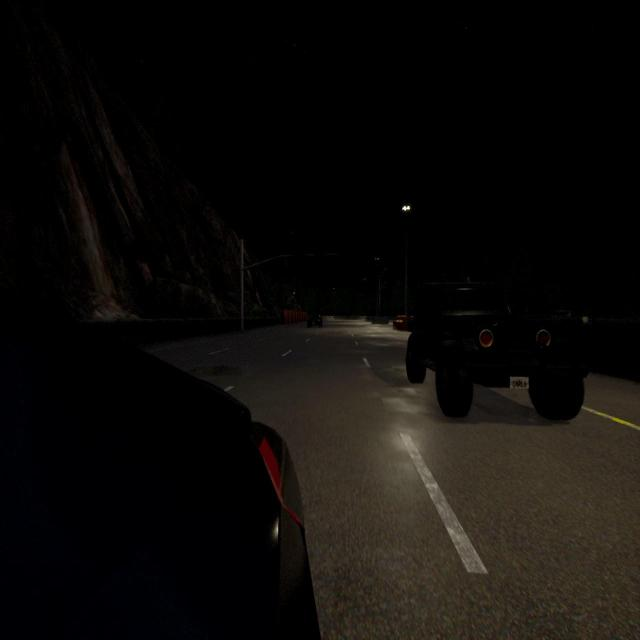Vehicle: (0, 316, 323, 640), (405, 259, 588, 422), (306, 312, 322, 328)
